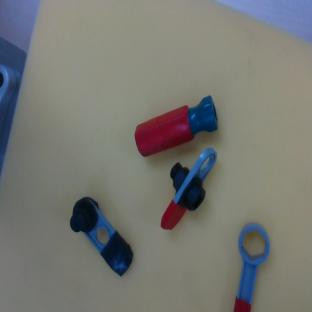part_1_bad: (60, 192, 141, 282)
part_1_good: (155, 139, 218, 237)
part_2_good: (129, 94, 224, 160)
part_3_good: (233, 222, 270, 312)
